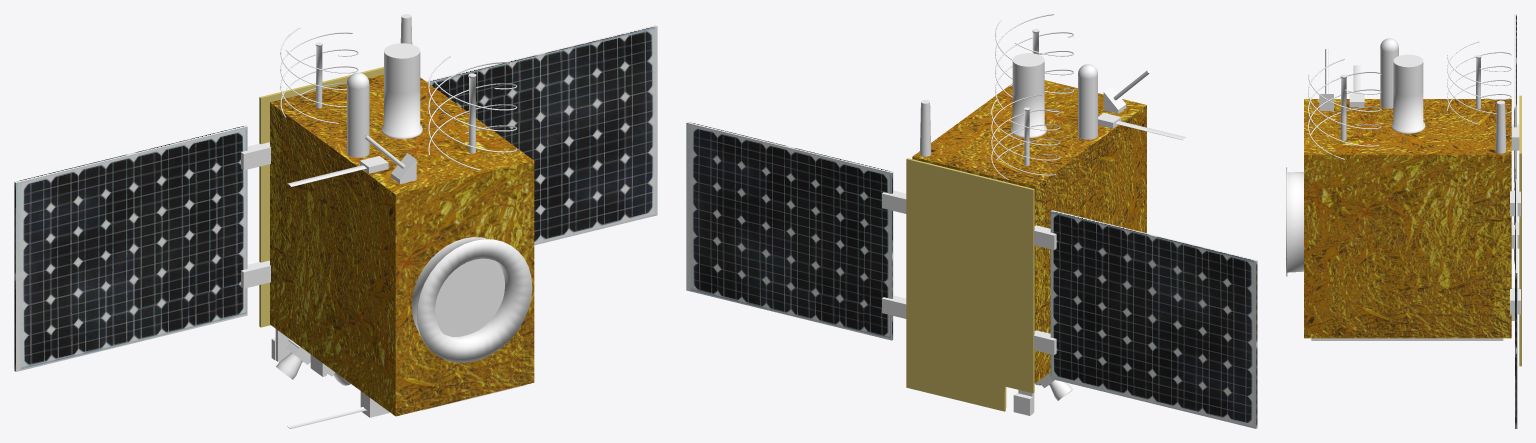
File: satellite2.gltf
3 renders of one model, left to right at view 1: azimuth 30°, elevation 25°; view 2: azimuth 150°, elevation 25°; view 3: azimuth 270°, elevation 25°, orthographic. The views are drawn at different scales.
Visible parts, largest first — view 1: mainbody, SP1, SP2, head, Cube; view 2: SP1, SP2, Cube, mainbody, head; view 3: mainbody, head, SP2, Cube, SP1.
Boxes of the visible parts, box(x1,y1,x2,y2) form: mainbody: box(270, 74, 534, 416); SP1: box(14, 125, 247, 371); SP2: box(426, 25, 657, 245); head: box(241, 14, 532, 428); Cube: box(259, 67, 383, 327); SP1: box(1050, 210, 1257, 428); SP2: box(686, 122, 893, 340); Cube: box(906, 158, 1034, 411); mainbody: box(912, 80, 1146, 383); head: box(882, 14, 1185, 415); mainbody: box(1304, 99, 1511, 338); head: box(1286, 38, 1520, 340); SP2: box(1515, 179, 1517, 428); Cube: box(1519, 95, 1521, 366); SP1: box(1514, 14, 1516, 263).
Bounding box in the file's own units: 122 × 61.68 × 46.91.
4 materials, 2 textured.
